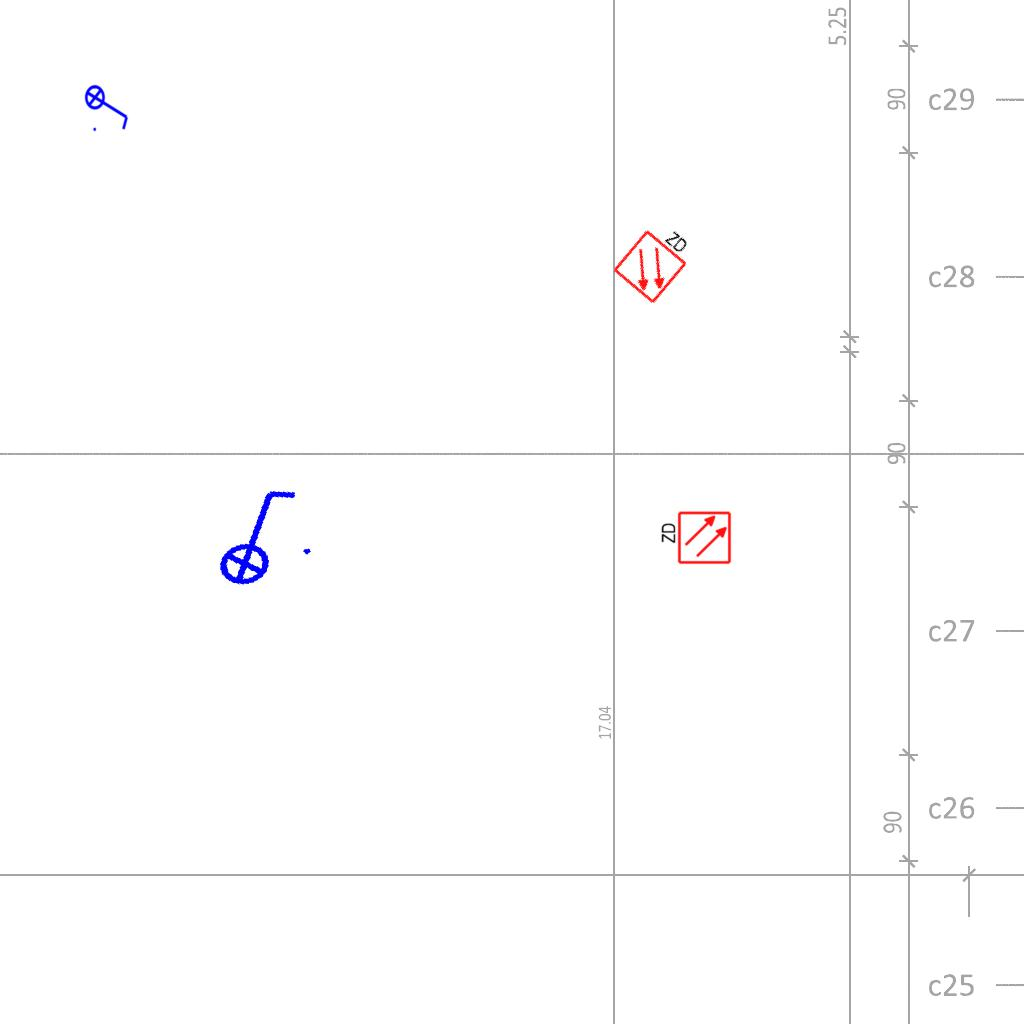Ausschalter_beleuchtet: (191, 476, 321, 594), (84, 78, 132, 134)
ZD_Melder_in_Zwischendecke_mit_Revisionsoeffnung_mind_40_x_40_cm: (609, 212, 702, 306), (658, 510, 732, 567)
